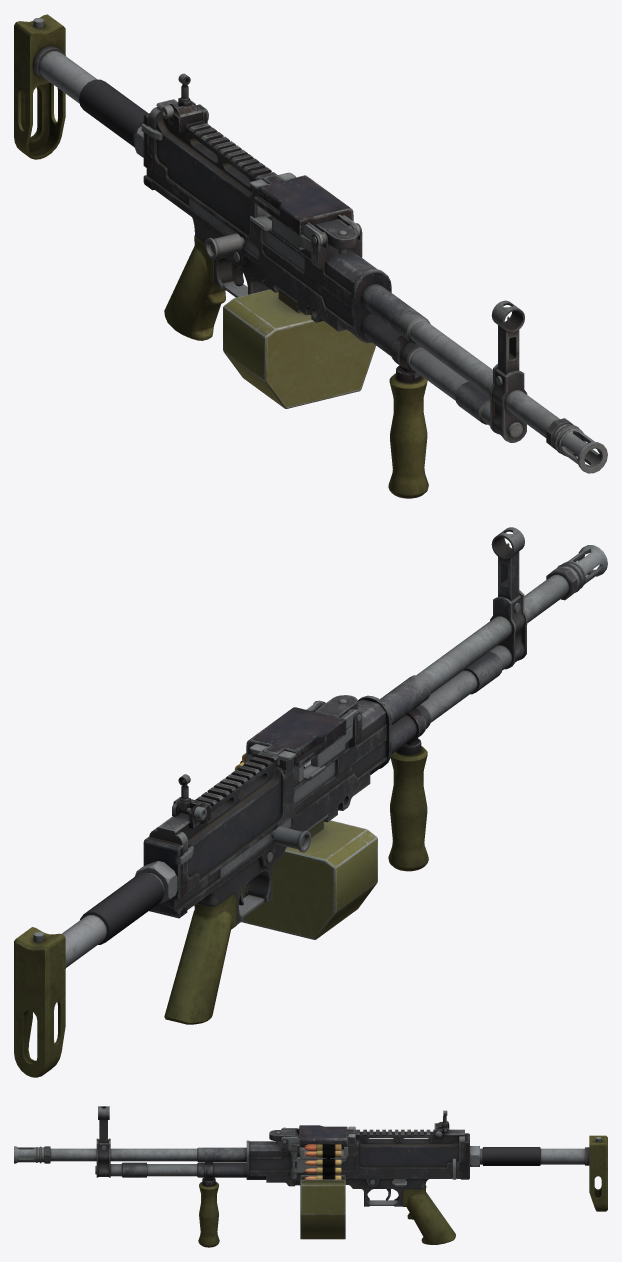
File: lmg.fbx
3 views of the same model, one above another, from view 1: azimuth 30°, elevation 25°; view 2: azimuth 150°, elevation 25°; view 3: azimuth 270°, elevation 25° (orthographic). The views are drawn at different scales.
Visible parts, largest first — view 1: base, mag, lid, bolt; view 2: base, mag, lid, bolt; view 3: base, mag, lid, bullet_4, bullet_3, bullet, bullet_5.
Boxes of the visible parts, left/top/right/bottom form: base: left=14, top=14, right=607, bottom=498; mag: left=223, top=285, right=376, bottom=408; lid: left=250, top=172, right=357, bottom=245; bolt: left=189, top=198, right=304, bottom=272; base: left=14, top=527, right=607, bottom=1077; mag: left=241, top=815, right=377, bottom=939; lid: left=246, top=701, right=355, bottom=767; bolt: left=219, top=760, right=335, bottom=878; base: left=14, top=1106, right=607, bottom=1247; mag: left=300, top=1175, right=345, bottom=1239; lid: left=281, top=1125, right=355, bottom=1147; bullet_4: left=304, top=1150, right=341, bottom=1159; bullet_3: left=304, top=1159, right=341, bottom=1168; bullet: left=304, top=1167, right=341, bottom=1176; bullet_5: left=304, top=1144, right=341, bottom=1151.
Size of the model in its own units: 13.8 by 29.41 by 115.
